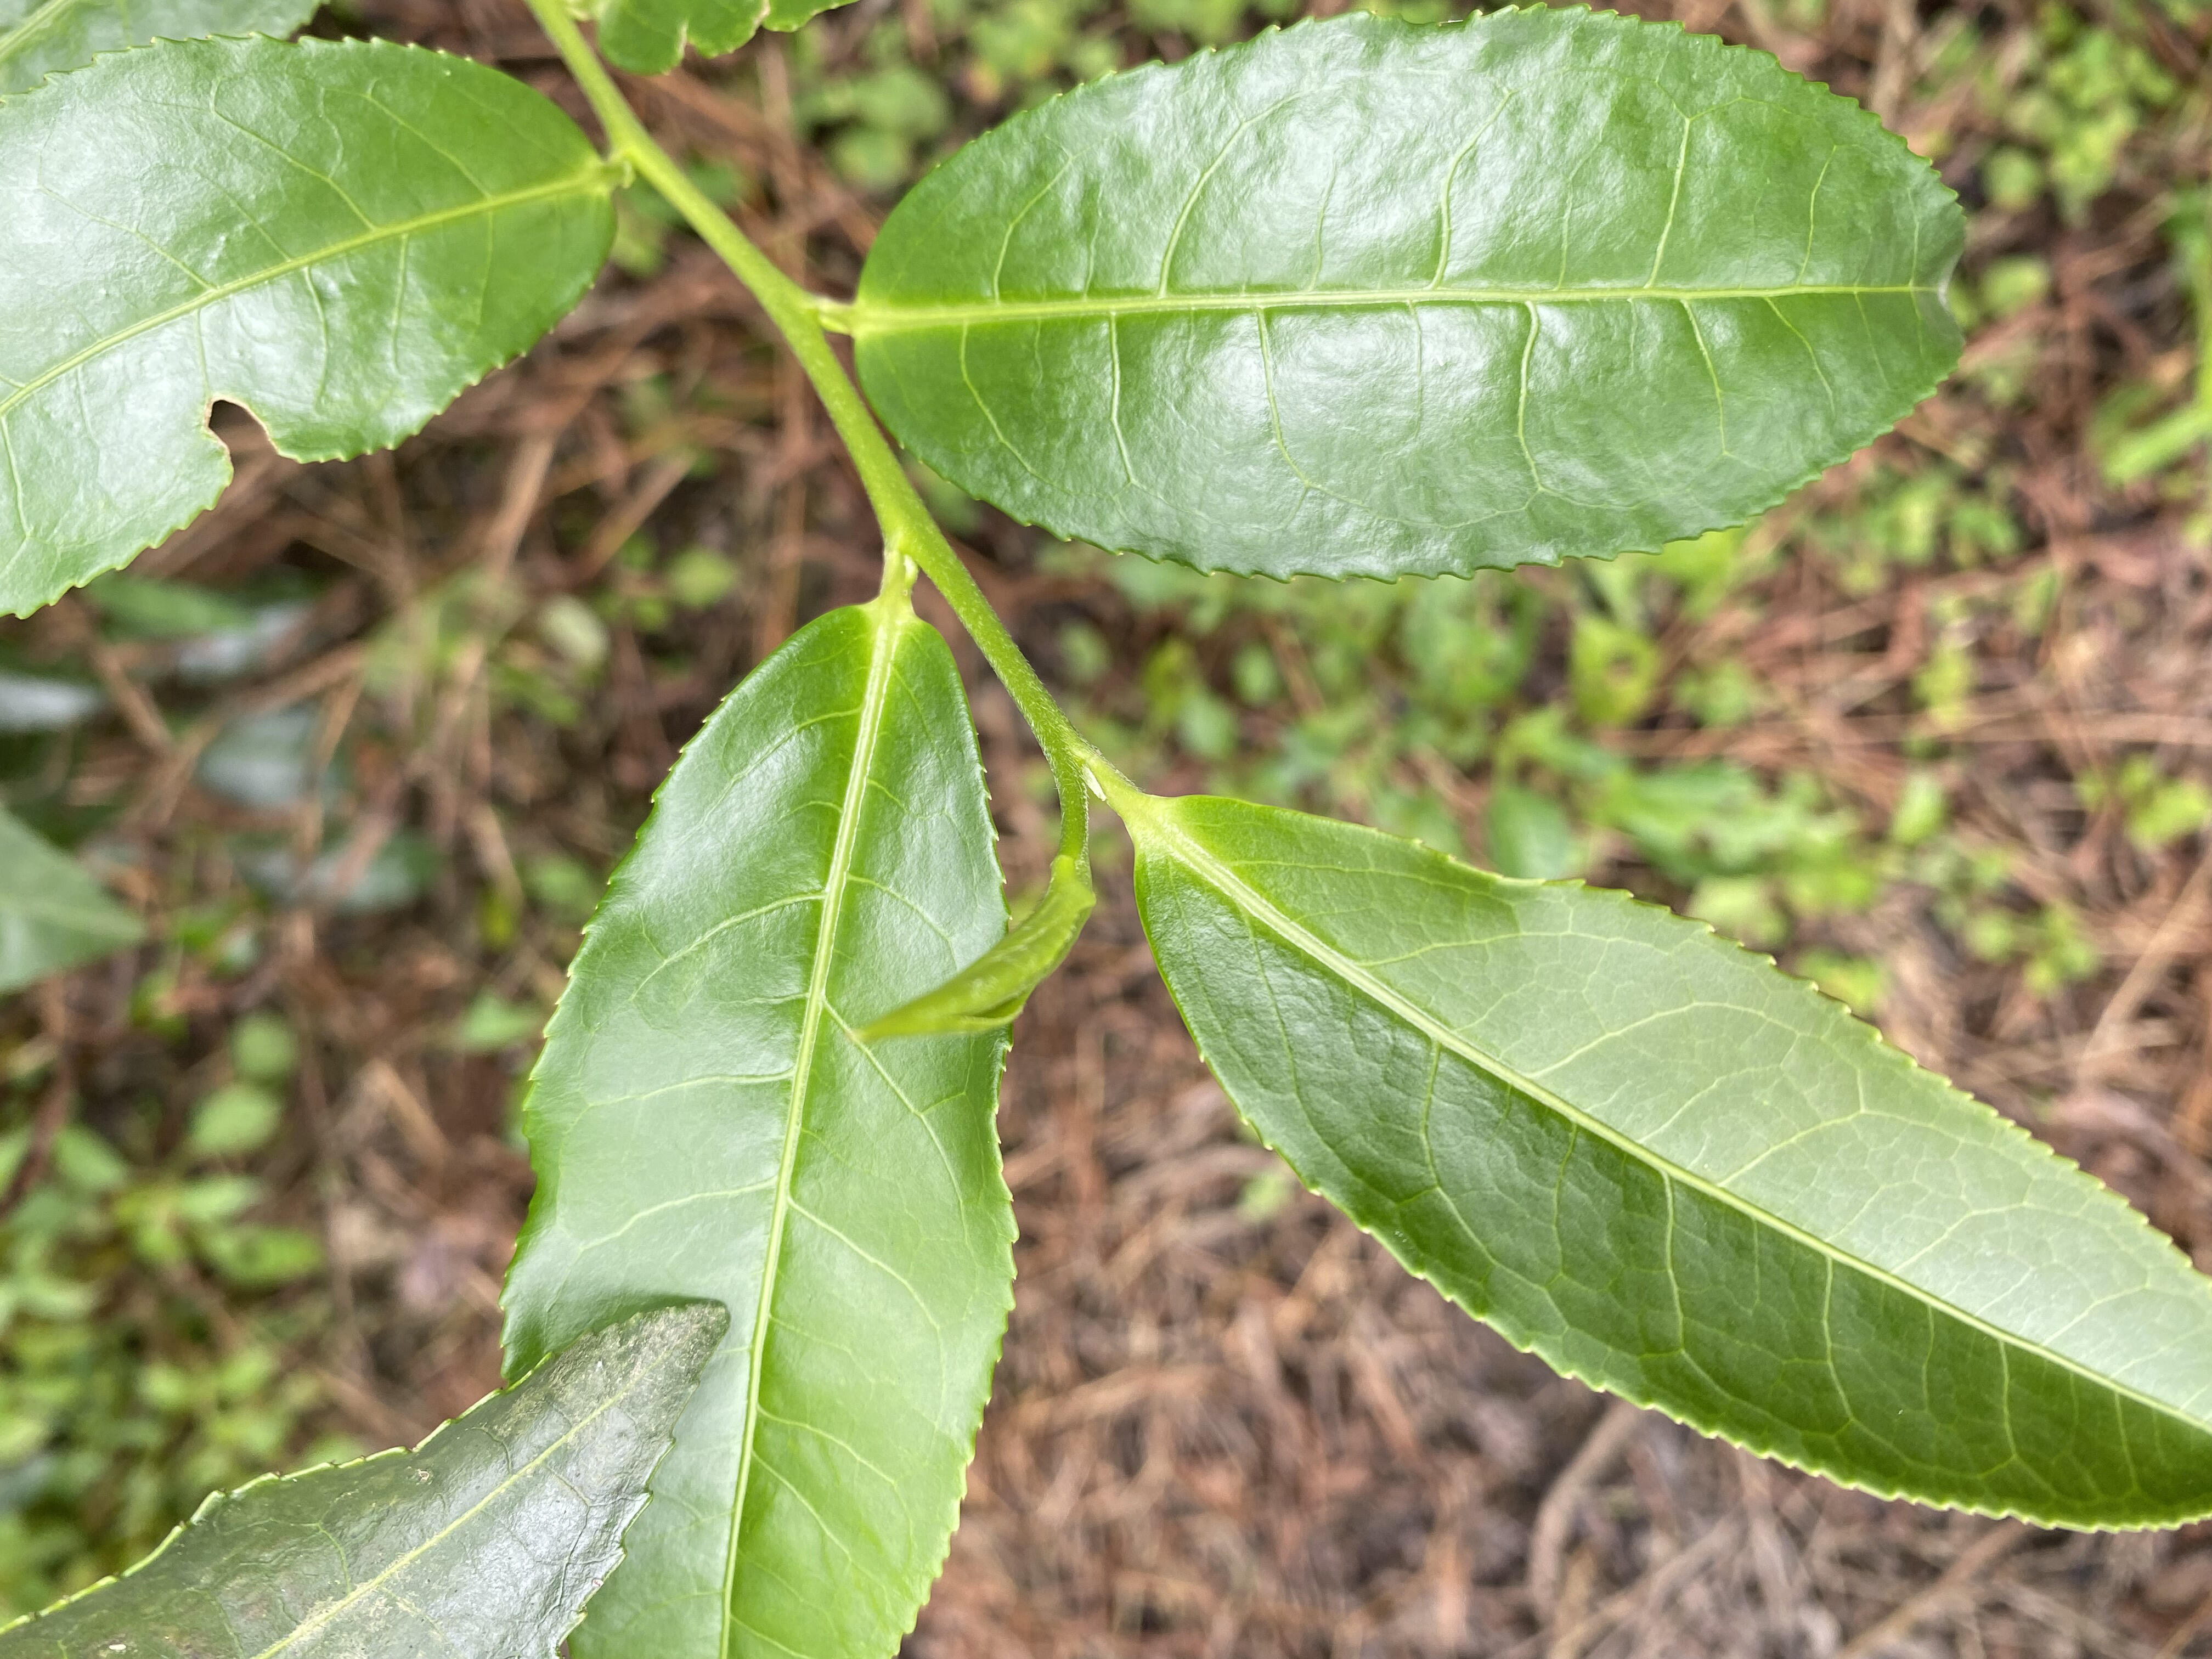chihuo_low: (5, 26, 618, 620)
healthy: (1134, 789, 2212, 1539), (843, 2, 1975, 586), (498, 598, 1026, 1659)
